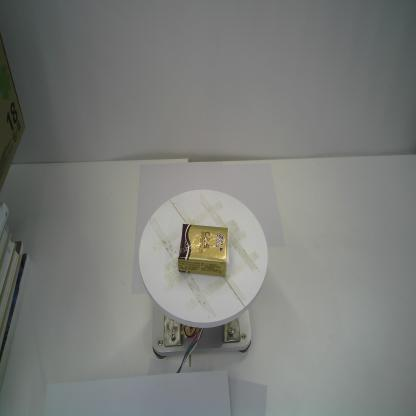Tissue: (177, 223, 230, 277)
